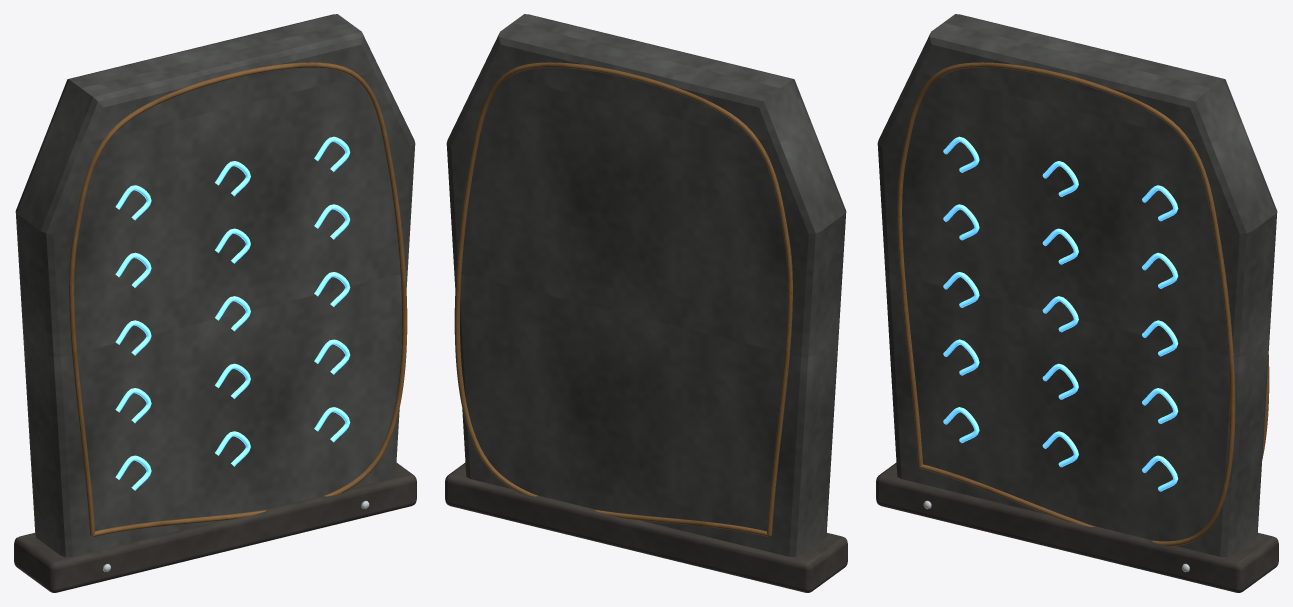
The model's file is rune-tablet.glb.
3 renders of one model, left to right at view 1: azimuth 30°, elevation 25°; view 2: azimuth 150°, elevation 25°; view 3: azimuth 330°, elevation 25°, orthographic.
Visible parts, largest first — view 1: stone / dressed slate, iron / hammer-scaled wrought iron, bronze / cast bronze with patina, energy / emissive field channel; view 2: stone / dressed slate, iron / hammer-scaled wrought iron, bronze / cast bronze with patina; view 3: stone / dressed slate, iron / hammer-scaled wrought iron, bronze / cast bronze with patina, energy / emissive field channel.
Boxes of the visible parts, x1,y1,x2,y2 form: stone / dressed slate: [15, 14, 415, 556]; iron / hammer-scaled wrought iron: [14, 463, 416, 592]; bronze / cast bronze with patina: [69, 62, 407, 536]; energy / emissive field channel: [115, 136, 350, 490]; stone / dressed slate: [446, 14, 846, 556]; iron / hammer-scaled wrought iron: [445, 463, 847, 592]; bronze / cast bronze with patina: [454, 62, 792, 536]; stone / dressed slate: [877, 14, 1277, 556]; iron / hammer-scaled wrought iron: [876, 463, 1278, 592]; bronze / cast bronze with patina: [897, 62, 1269, 546]; energy / emissive field channel: [943, 136, 1178, 491].
Bounding box in the file's own units: 0.3762 × 0.463 × 0.0735.
Materials: 5 (4 with a texture image).
